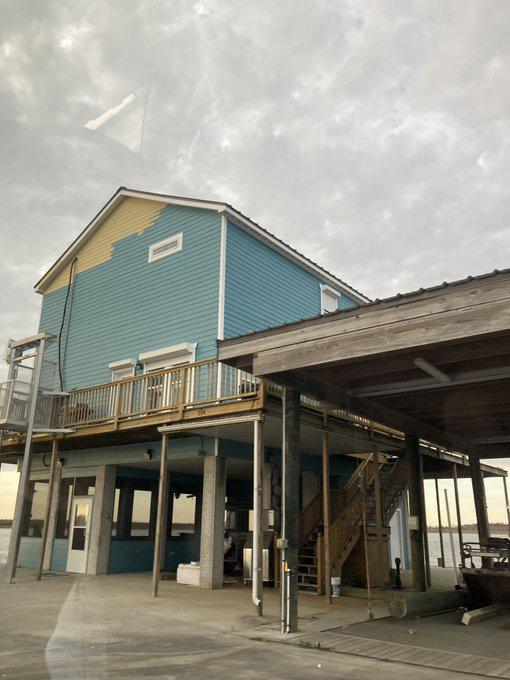minor: (5, 164, 510, 646)
